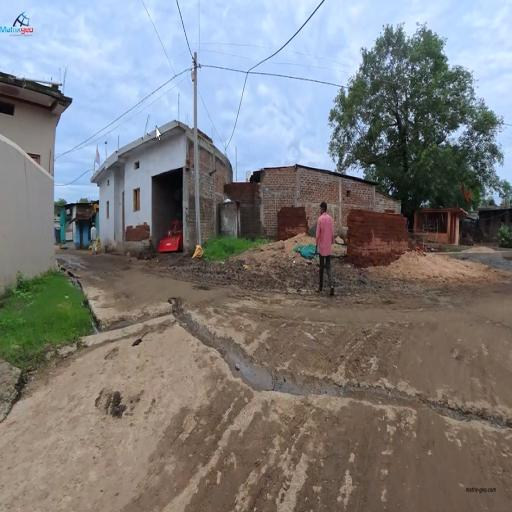longitudinal_crack: (308, 376, 488, 422)
